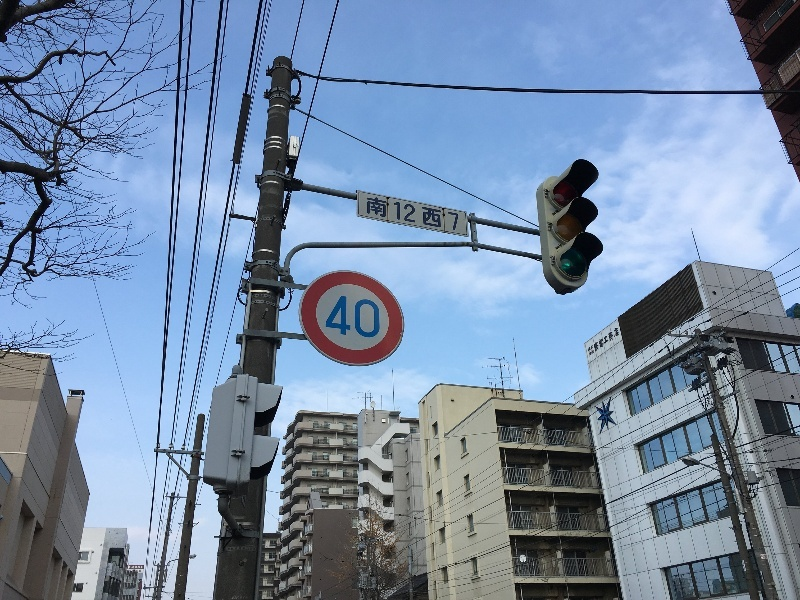text: (353, 296, 368, 339), (369, 196, 384, 231), (385, 196, 400, 231), (401, 196, 416, 231), (417, 196, 432, 231), (433, 196, 448, 231), (369, 296, 380, 339), (342, 296, 352, 339), (594, 326, 608, 353), (449, 196, 459, 231), (609, 326, 619, 353), (367, 196, 368, 231), (588, 345, 592, 352), (589, 350, 592, 356), (593, 350, 595, 356), (593, 345, 594, 352)
